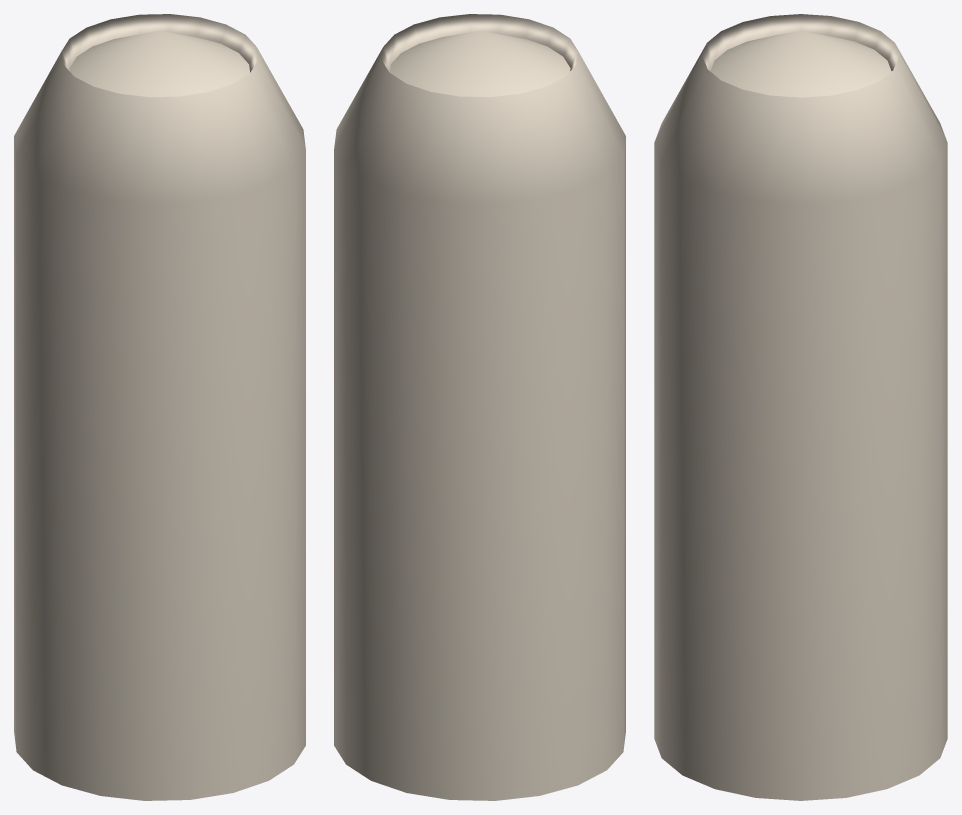
The model's file is Candle.fbx.
The picture shows the model from 3 angles, left to right: view 1: azimuth 30°, elevation 25°; view 2: azimuth 150°, elevation 25°; view 3: azimuth 270°, elevation 25°; orthographic projection.
Visible parts, largest first — view 1: Candle; view 2: Candle; view 3: Candle.
Part boxes in pixels (bbox=[...]): Candle: bbox=[14, 14, 305, 800]; Candle: bbox=[334, 14, 625, 800]; Candle: bbox=[654, 14, 947, 800].
Bounding box in the file's own units: 0.8864 × 2.36 × 0.8864.
